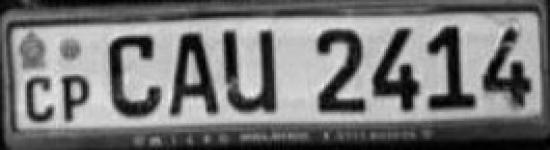1: (425, 20, 481, 113)
2: (313, 22, 372, 117)
4: (480, 18, 537, 113), (372, 21, 425, 114)
A: (166, 28, 222, 120)
C: (101, 29, 165, 120), (23, 72, 58, 126)
P: (59, 72, 91, 125)
U: (220, 27, 287, 120)
